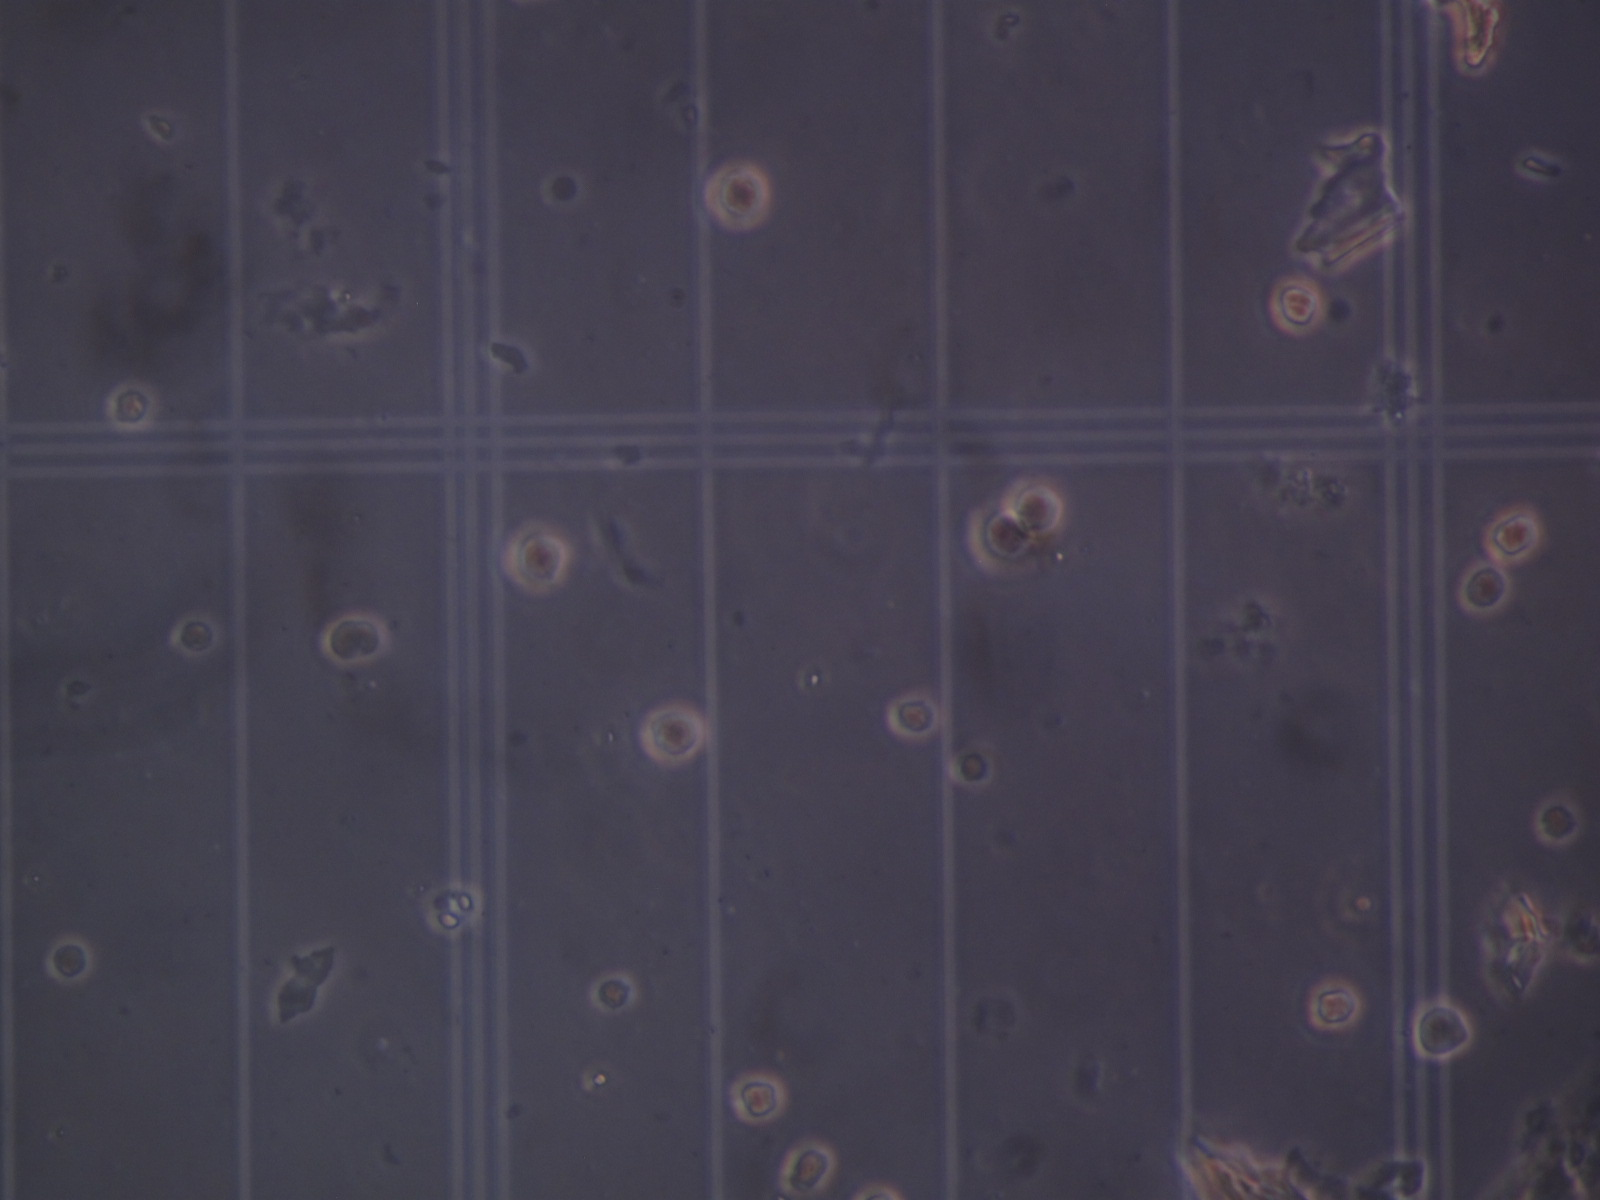hemo: (965, 500, 1036, 581), (702, 159, 771, 232), (505, 518, 568, 596), (1002, 476, 1066, 538), (643, 705, 704, 765), (1267, 274, 1325, 337), (324, 613, 389, 668), (1482, 508, 1543, 566), (1414, 1000, 1471, 1061), (779, 1143, 839, 1199), (426, 879, 483, 935), (1458, 561, 1514, 615), (1309, 977, 1363, 1031), (887, 688, 941, 742), (106, 378, 157, 431), (729, 1075, 786, 1123), (171, 611, 223, 659), (1534, 795, 1581, 848), (43, 937, 92, 984), (592, 973, 637, 1018), (951, 746, 995, 787)
